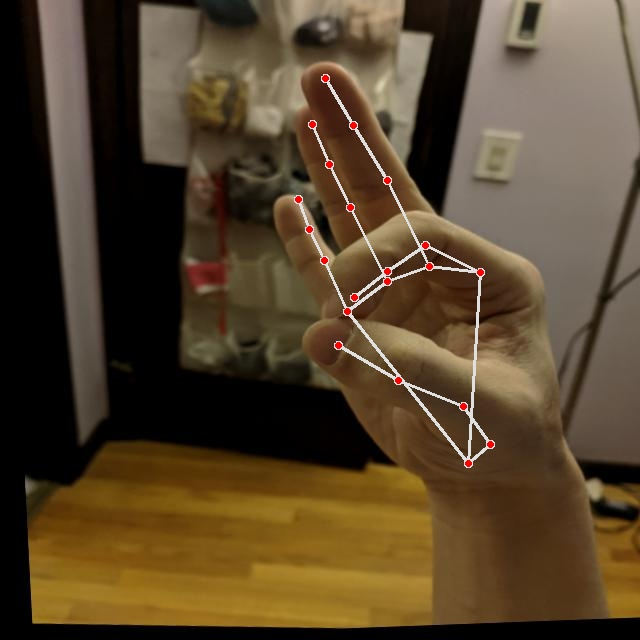F: (238, 49, 595, 518)
